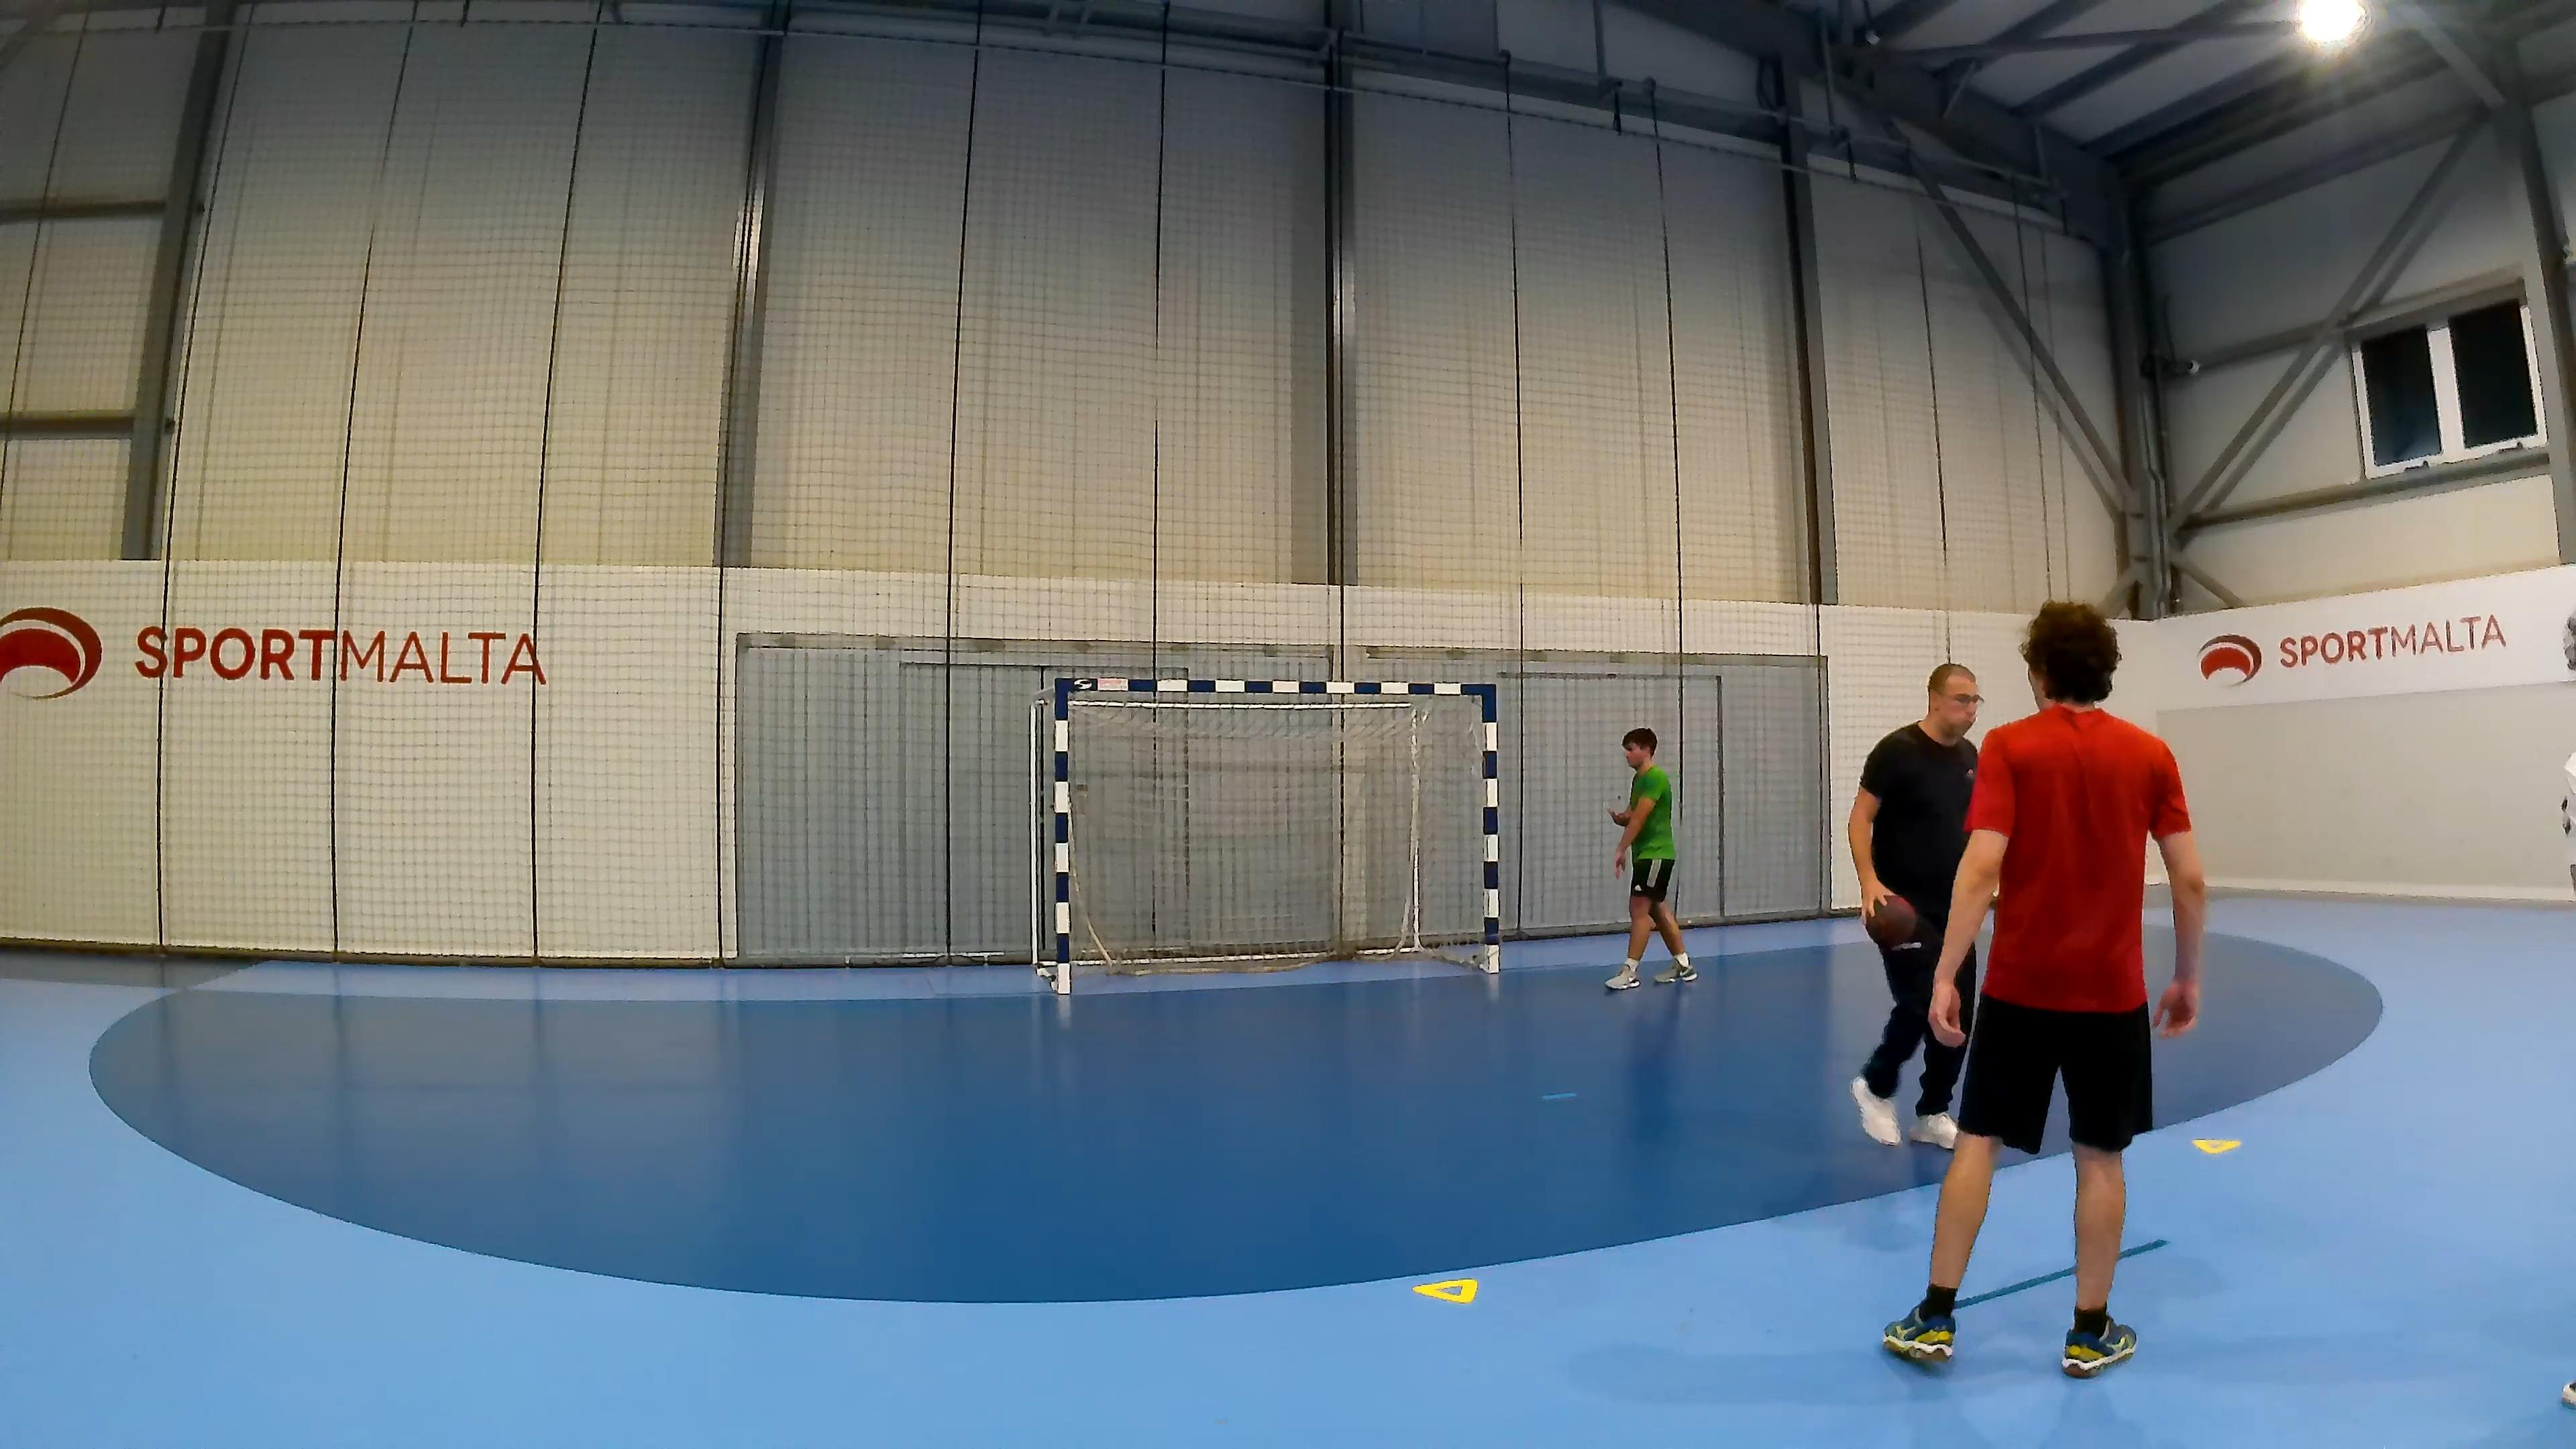handball: (1863, 892, 1916, 948)
